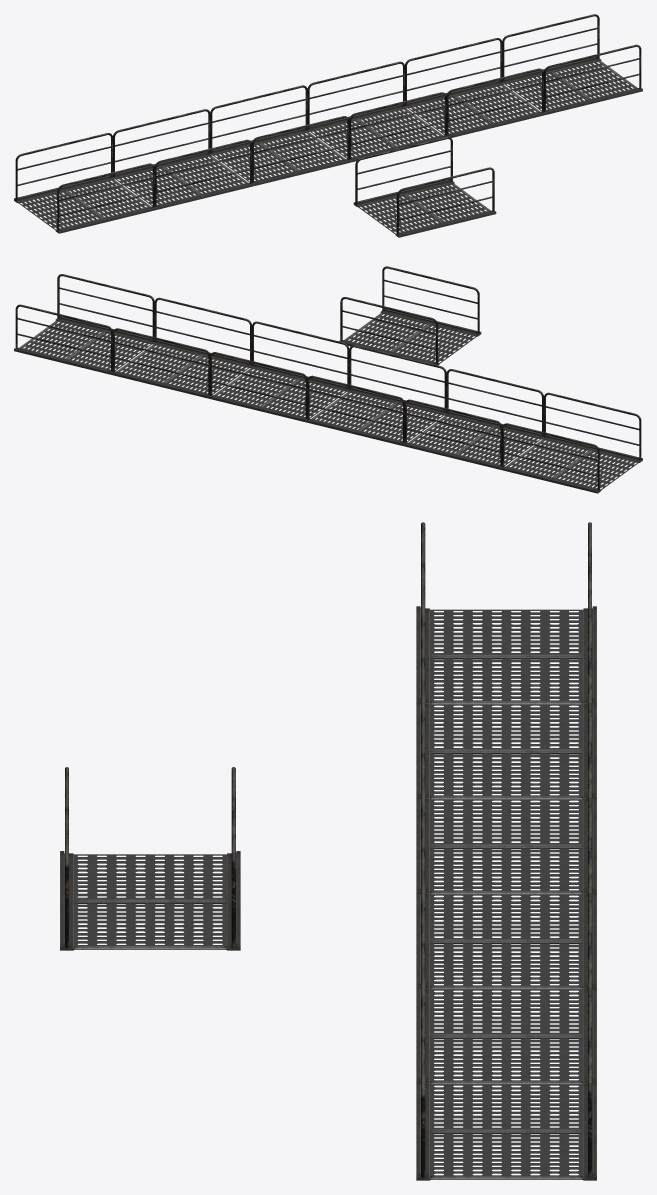
Rendered from bridge__metal_10_mb.glb.
3 renders of one model, top to bottom at view 1: azimuth 30°, elevation 25°; view 2: azimuth 150°, elevation 25°; view 3: azimuth 270°, elevation 25°, orthographic. The views are drawn at different scales.
Visible parts, largest first — view 1: Cloner, 01_01_0; view 2: Cloner, 01_01_0; view 3: Cloner, 01_01_0.
Boxes of the visible parts, left/top/right/bottom form: Cloner: left=14, top=14, right=642, bottom=233; 01_01_0: left=353, top=137, right=496, bottom=237; Cloner: left=14, top=274, right=642, bottom=493; 01_01_0: left=339, top=266, right=481, bottom=365; Cloner: left=416, top=522, right=596, bottom=1180; 01_01_0: left=60, top=767, right=240, bottom=950.
Bounding box in the file's own units: 12.24 × 0.945 × 4.87.
1 material, 1 textured.
